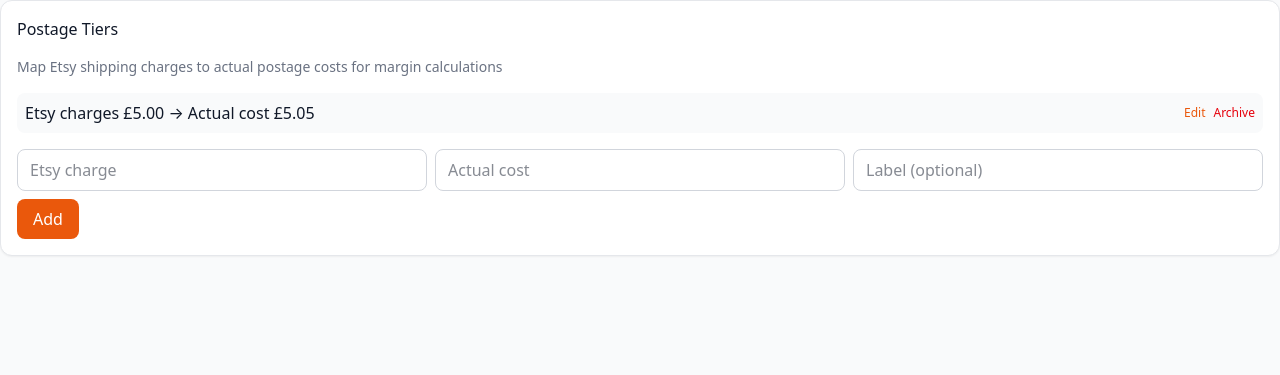
Scenario: PostageTiersSection › cancels an edit and restores view mode without saving the draft
Step 1. Click the button with aria-label "Edit £5.00 tier" → x=1195, y=113, box [1184,105,1206,121]
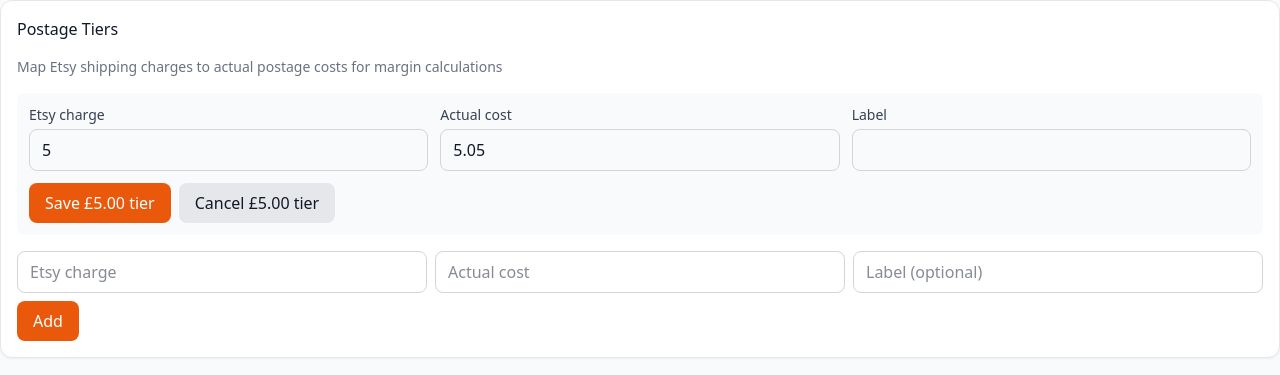
Step 2. Replace the text in the number field labelled "Actual cost" below "Label" with "3.85" → x=640, y=150, box [440,129,840,171]
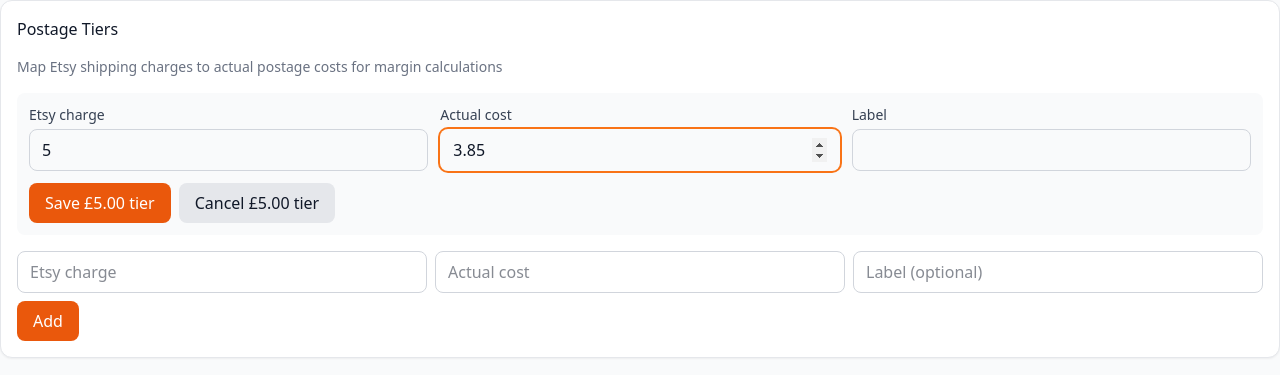
Step 3. Click the button "Cancel £5.00 tier" → x=257, y=203, box [179,183,335,223]
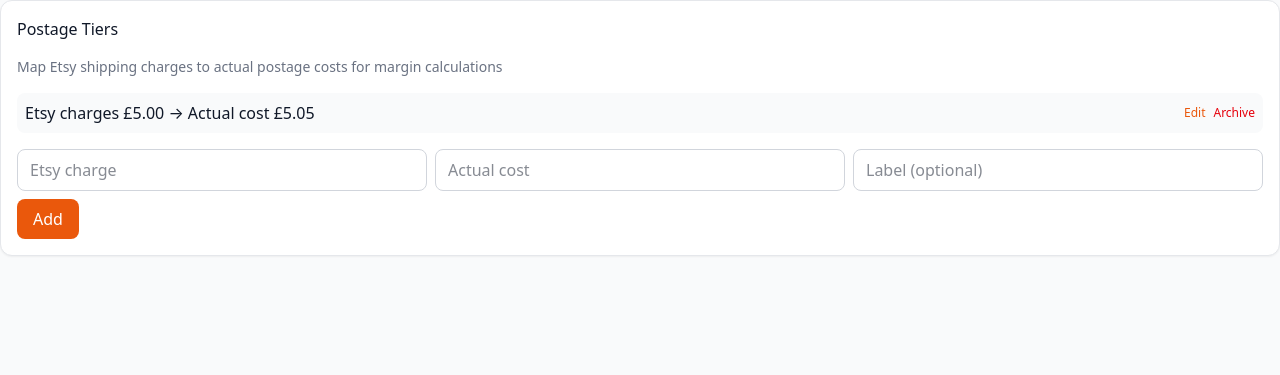
Result: the button "Save £5.00 tier" is gone
Result: the text "Etsy charges £5.00 → Actual cost £5.05" is shown at [25,101,314,125]
